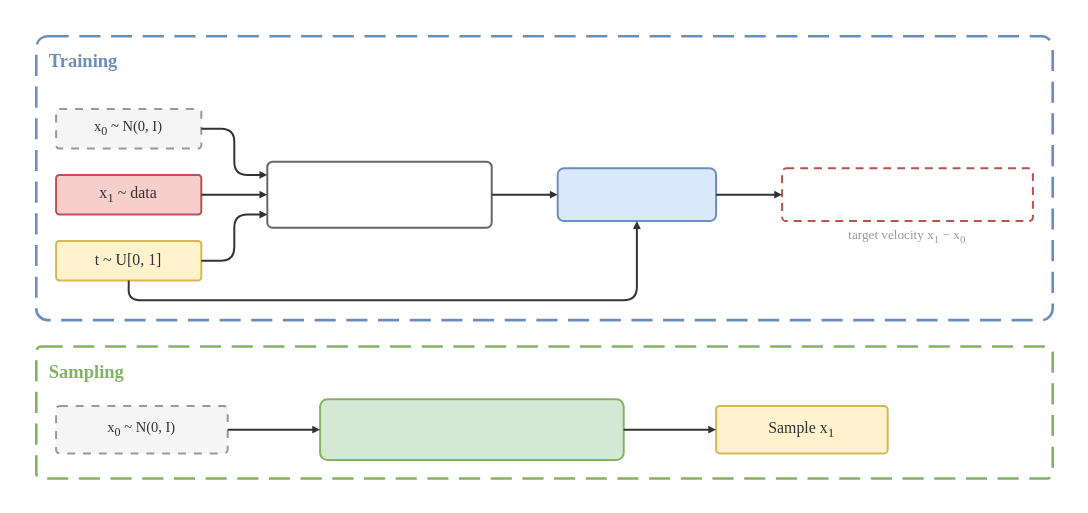
The diagram is 1088 pixels wide and 513 high, and some of its shapes have lost their labels. The shapes that lost their labels are listed below. From the top down, each one's centre as x and y in pixels, then its label:
At point 379,194: "Interpolate x t = (1 − t) x 0 + t x 1".
At point 636,194: "v θ (x t , t)".
At point 907,194: "L = ‖v θ (x t , t) − (x 1 − x 0 )‖ 2".
At point 471,429: "ODE solver (Euler / RK) dx/dt = v θ (x, t), t: 0 → 1".
